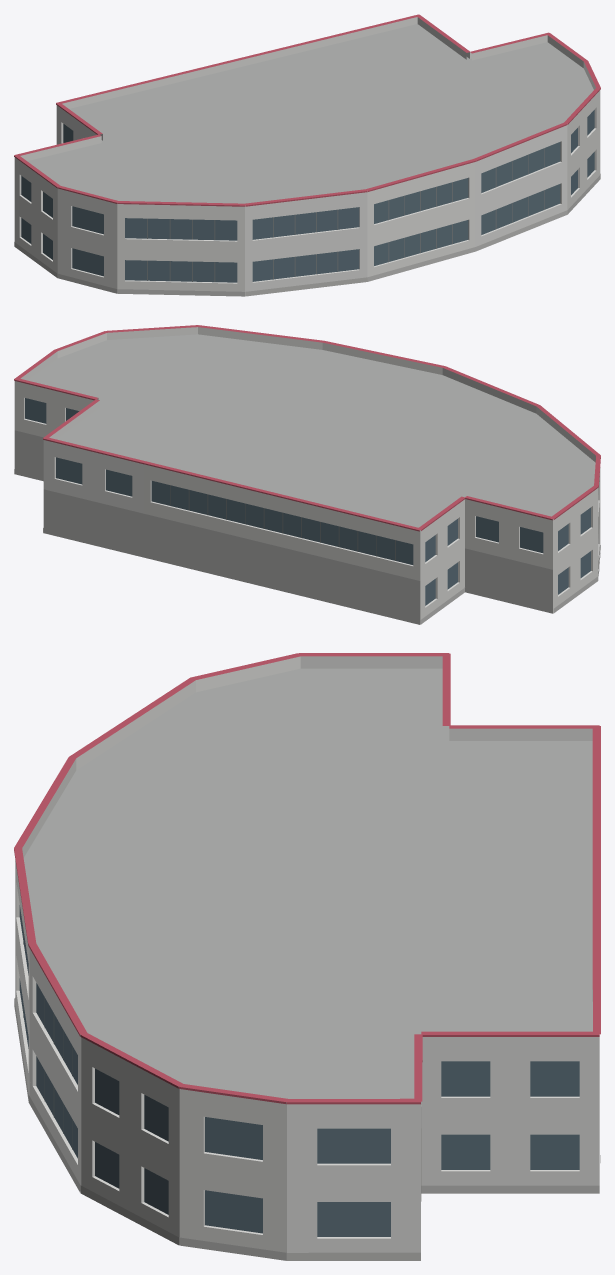
3 views of the same model, one above another, from view 1: azimuth 30°, elevation 25°; view 2: azimuth 150°, elevation 25°; view 3: azimuth 270°, elevation 25° (orthographic). The views are drawn at different scales.
Parts seen in each view (by area): view 1: emmaus__roof, emmaus__wall, emmaus__glass, emmaus__parapet, emmaus__trim, emmaus__base, emmaus__frame; view 2: emmaus__roof, emmaus__base, emmaus__wall, emmaus__glass, emmaus__parapet, emmaus__trim, emmaus__frame; view 3: emmaus__roof, emmaus__wall, emmaus__glass, emmaus__parapet, emmaus__trim, emmaus__base.
Boxes of the visible parts, x1,y1,x2,y2 form: emmaus__roof: (27,24,593,203); emmaus__wall: (14,95,600,295); emmaus__glass: (21,110,594,282); emmaus__parapet: (14,17,600,212); emmaus__trim: (14,14,600,206); emmaus__base: (14,174,600,296); emmaus__frame: (147,148,544,282); emmaus__roof: (28,334,595,527); emmaus__base: (14,430,600,624); emmaus__wall: (14,387,600,624); emmaus__glass: (25,398,590,605); emmaus__parapet: (14,327,598,537); emmaus__trim: (14,325,600,531); emmaus__frame: (170,485,395,560); emmaus__roof: (23,668,592,1098); emmaus__wall: (15,861,599,1260); emmaus__glass: (19,905,579,1236); emmaus__parapet: (15,656,599,1113); emmaus__trim: (14,653,600,1104); emmaus__base: (14,998,600,1260).
Size of the model in its own units: 47.3 by 7.8 by 26.12.
